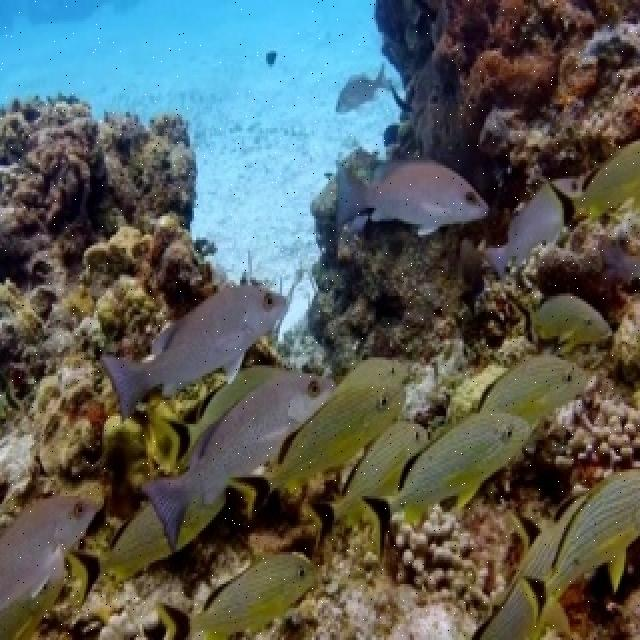fish: (142, 372, 337, 555), (229, 376, 408, 525), (104, 284, 288, 422), (102, 282, 265, 423), (383, 409, 532, 528), (156, 552, 320, 637), (334, 159, 489, 242)
sea-floor: (0, 3, 638, 635)
